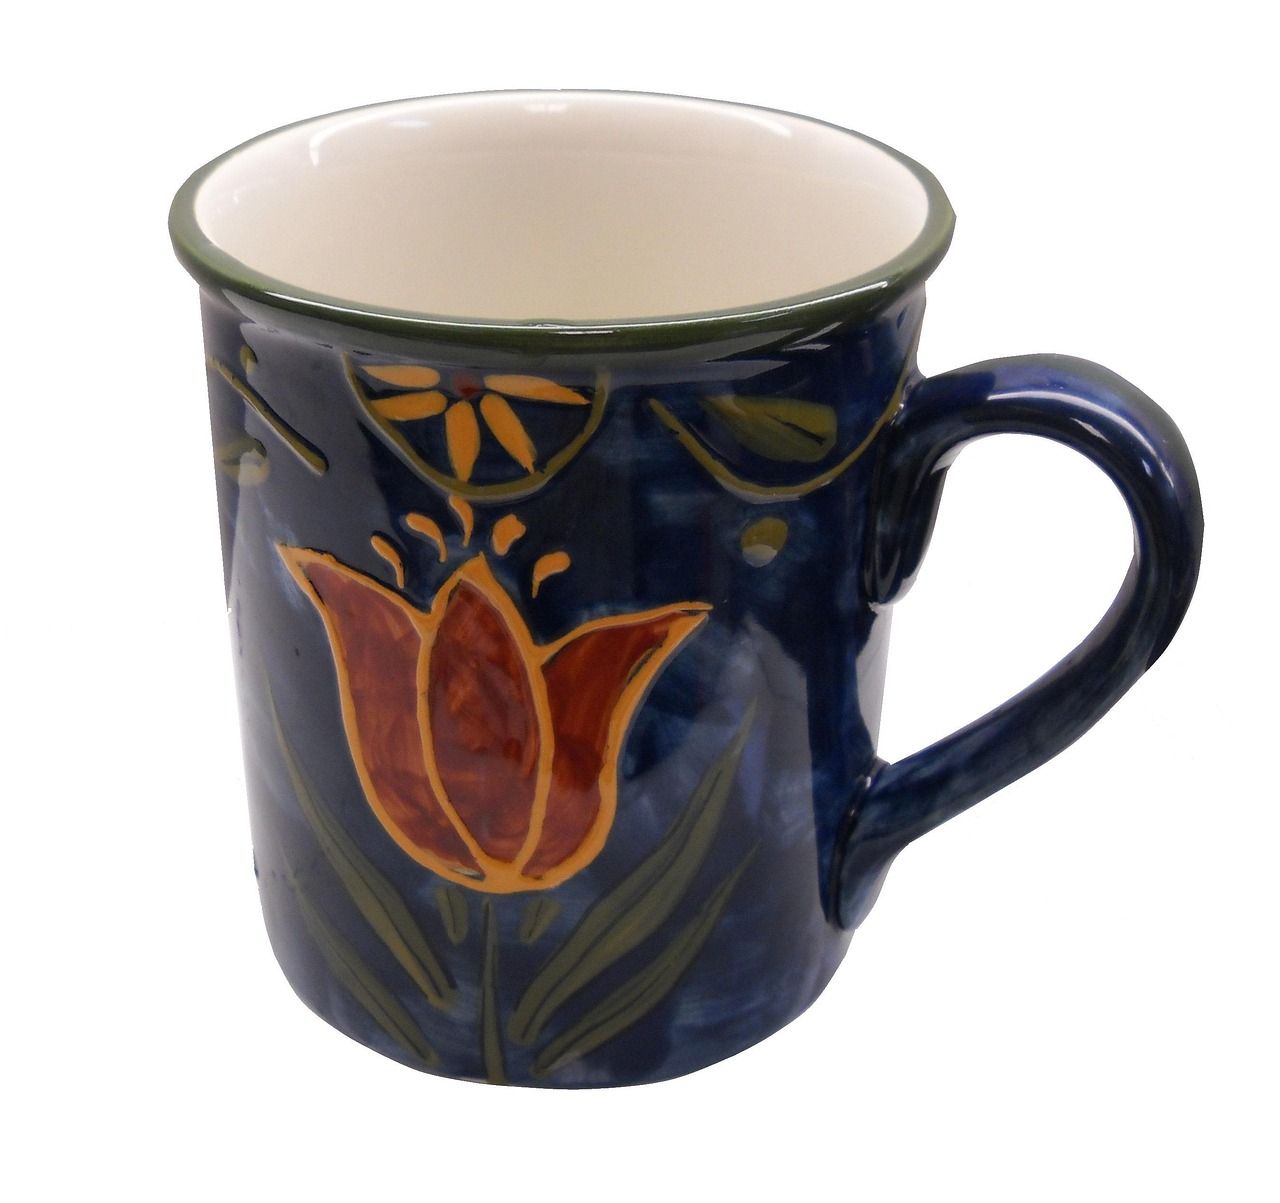mug: (159, 96, 1213, 1108)
